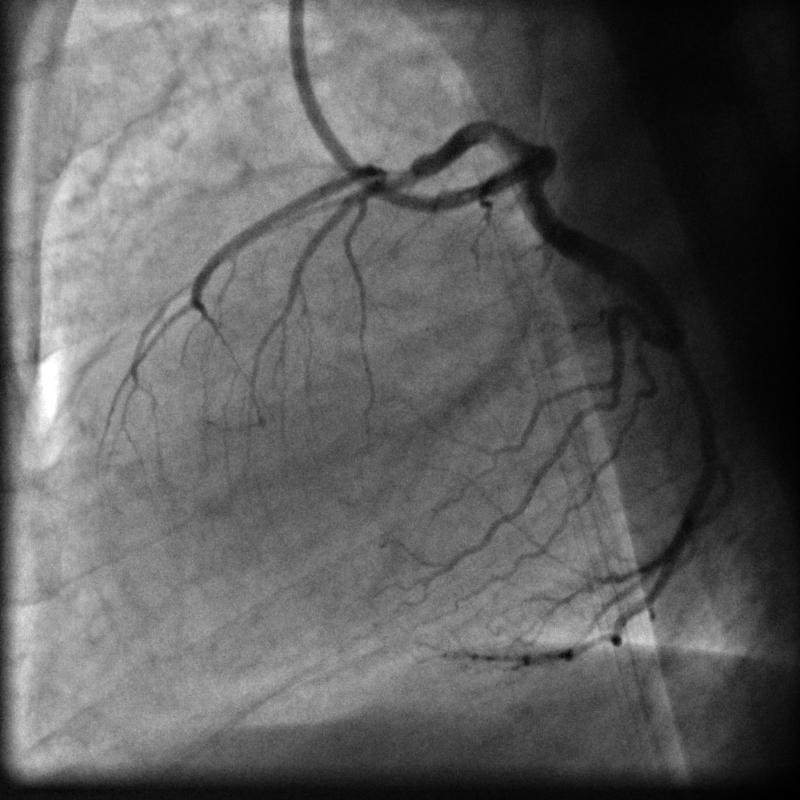Stenosis: (374, 153, 426, 191)
